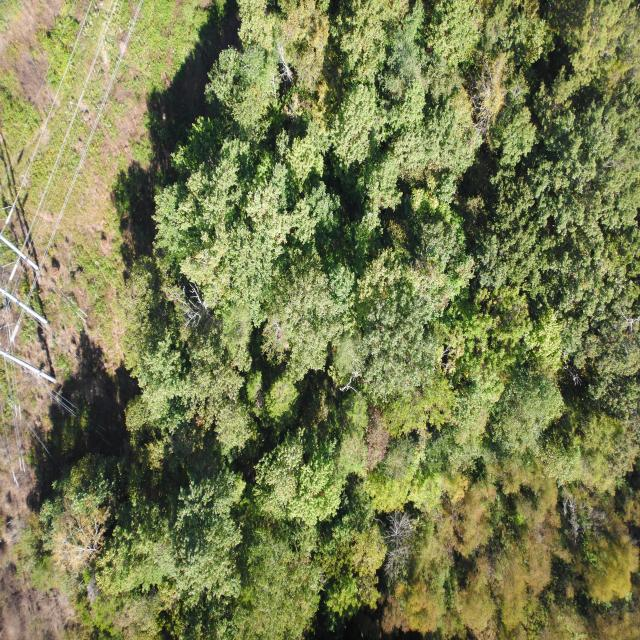Area of Interest: (27, 10, 636, 631)
